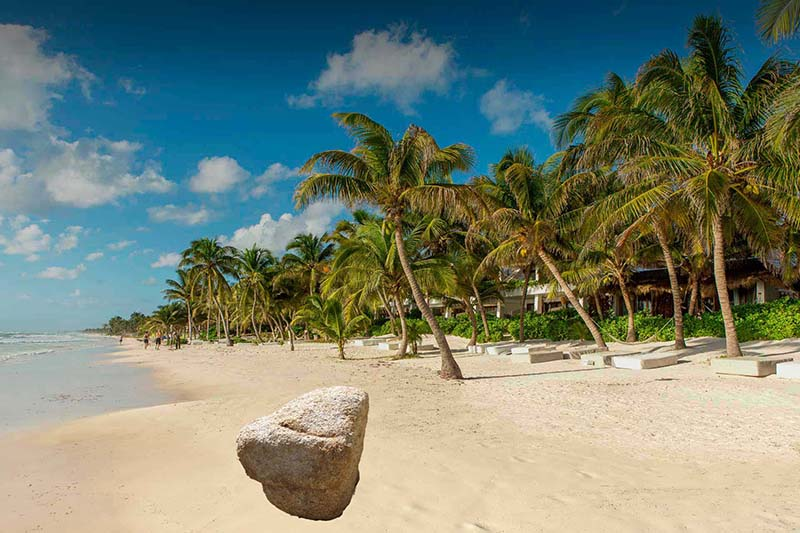Rocks: (229, 380, 376, 522)
